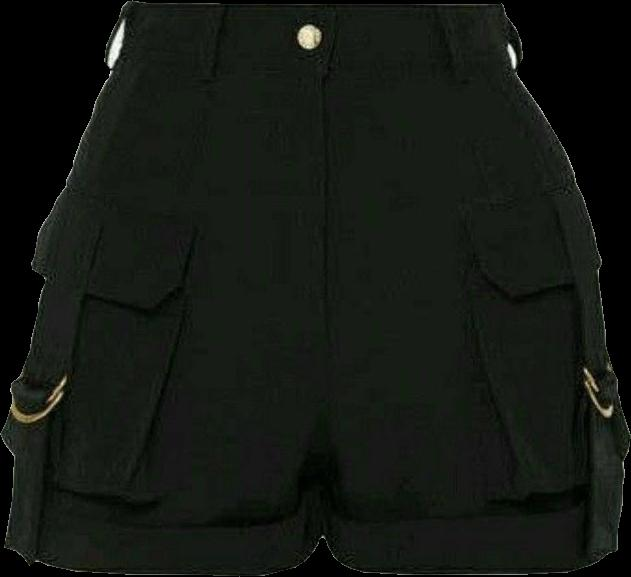Hemline: (322, 532, 618, 576), (2, 541, 321, 576)
Pantleg: (1, 0, 324, 576), (320, 4, 630, 576)
Waistline: (116, 52, 508, 64), (125, 0, 501, 10)
